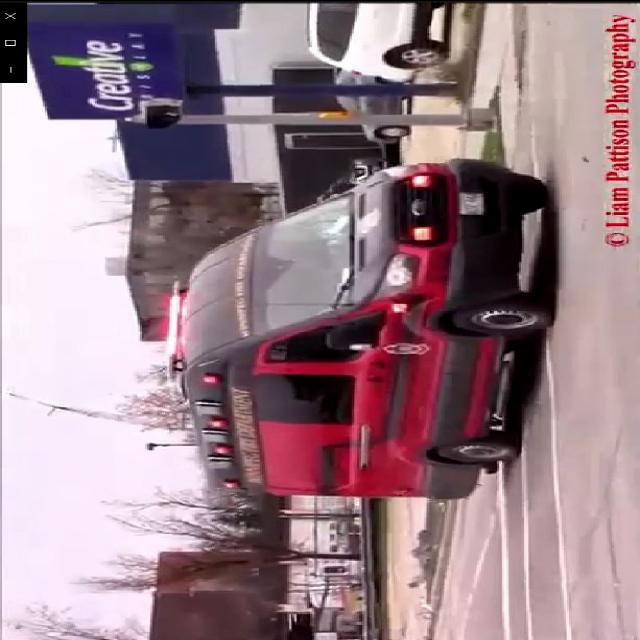emergency: (156, 158, 564, 500)
